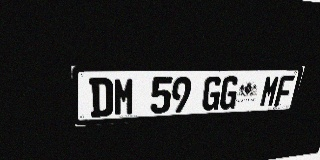5: (150, 77, 172, 114)
9: (170, 77, 192, 113)
D: (89, 78, 113, 118)
F: (273, 75, 295, 106)
G: (201, 76, 223, 111), (218, 76, 240, 110)
M: (113, 77, 135, 116), (259, 75, 281, 107)
